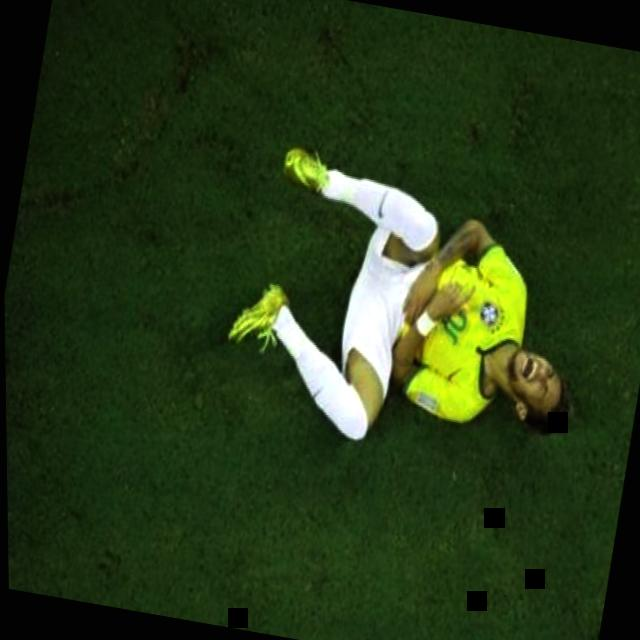Fall-Detected: (206, 107, 629, 483)
